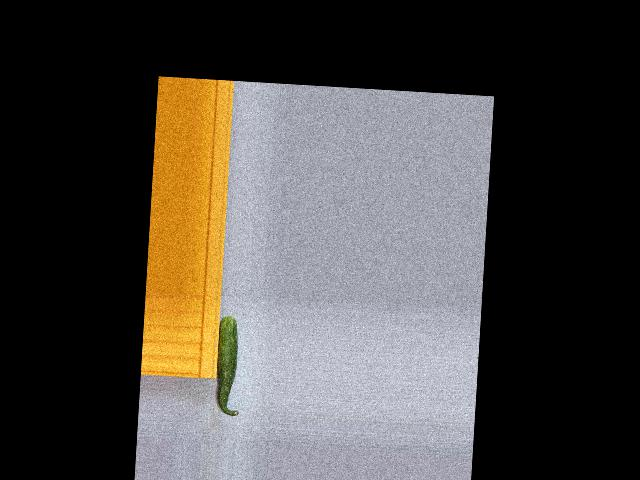cucumber: (213, 316, 244, 416)
